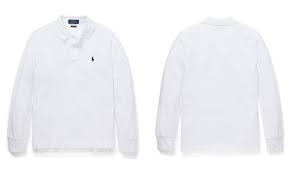C_polo shirt: (7, 19, 143, 159)
